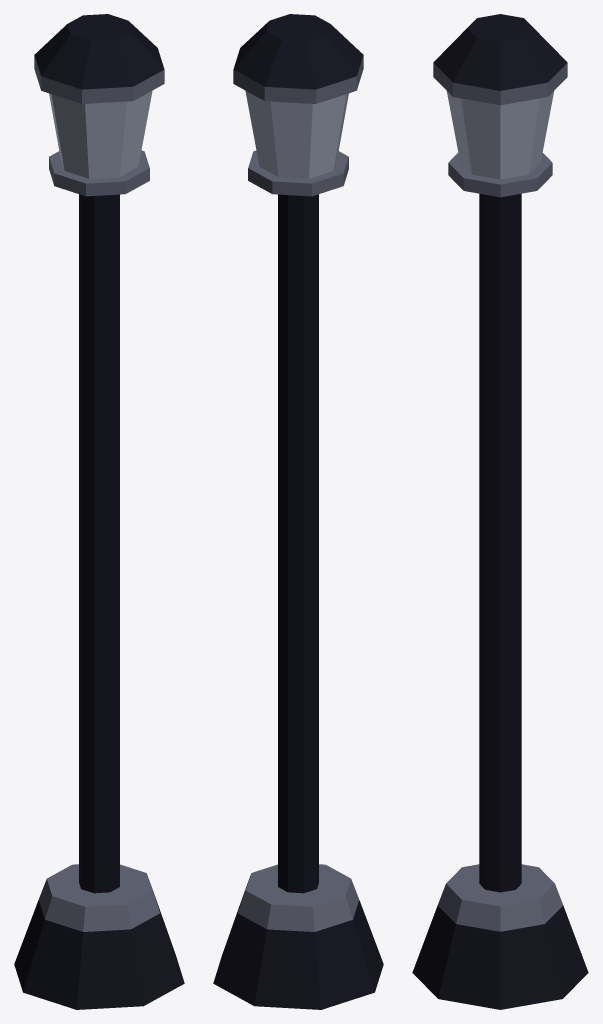
File: FarolaApagada.fbx
3 renders of one model, left to right at view 1: azimuth 30°, elevation 25°; view 2: azimuth 150°, elevation 25°; view 3: azimuth 270°, elevation 25°, orthographic.
Visible parts, largest first — view 1: Cylinder.001; view 2: Cylinder.001; view 3: Cylinder.001.
Boxes of the visible parts, x1,y1,x2,y2 form: Cylinder.001: (14, 14, 184, 1009); Cylinder.001: (213, 14, 383, 1009); Cylinder.001: (412, 14, 588, 1009).
Bounding box in the file's own units: 60.11 × 355 × 60.11.
